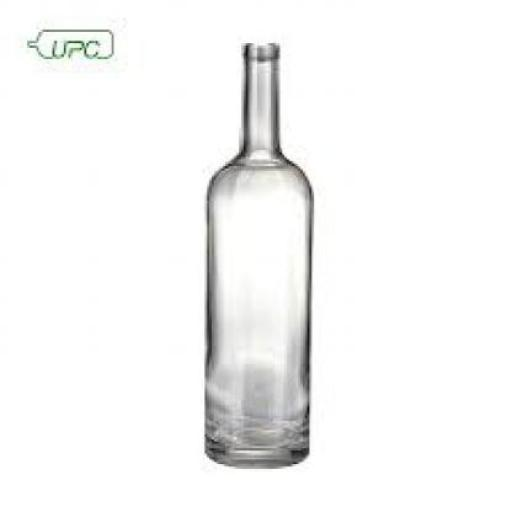glass: (205, 41, 309, 464)
